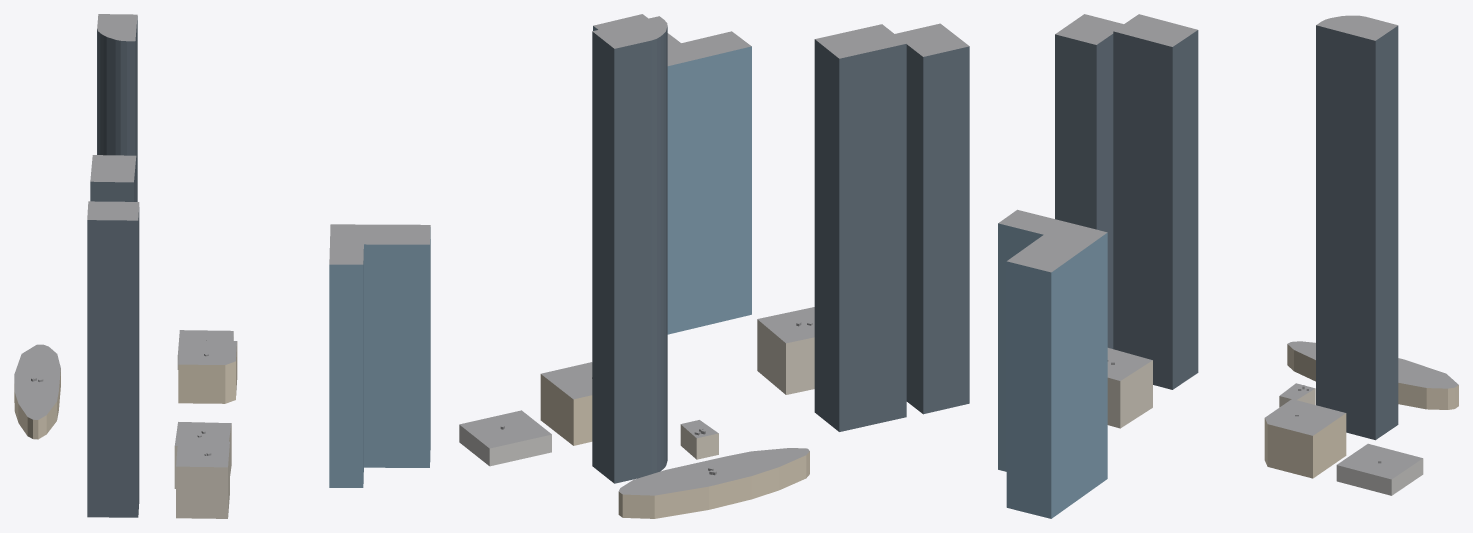
Rendered from building_-1_-5.glb.
3 views of the same model, side by side, from view 1: azimuth 30°, elevation 25°; view 2: azimuth 150°, elevation 25°; view 3: azimuth 270°, elevation 25° (orthographic). The views are drawn at different scales.
Parts seen in each view (by area): view 1: glass_blue, glass_dark, roof, sandstone, concrete_warm; view 2: glass_dark, glass_blue, roof, sandstone, concrete_warm, concrete_light; view 3: glass_dark, glass_blue, roof, sandstone, concrete_warm, concrete_light.
Boxes of the visible parts, bbox=[...] form: glass_blue: bbox=[329, 227, 430, 487]; glass_dark: bbox=[87, 16, 139, 517]; roof: bbox=[14, 14, 430, 467]; sandstone: bbox=[14, 341, 237, 439]; concrete_warm: bbox=[174, 423, 231, 518]; glass_dark: bbox=[592, 26, 969, 483]; glass_blue: bbox=[593, 26, 751, 334]; roof: bbox=[459, 14, 969, 495]; sandstone: bbox=[540, 374, 809, 518]; concrete_warm: bbox=[680, 319, 814, 459]; concrete_light: bbox=[459, 425, 551, 466]; glass_dark: bbox=[1055, 25, 1398, 440]; glass_blue: bbox=[998, 223, 1107, 518]; roof: bbox=[998, 14, 1458, 479]; sandstone: bbox=[1264, 344, 1458, 478]; concrete_warm: bbox=[1107, 360, 1315, 428]; concrete_light: bbox=[1336, 458, 1423, 495].
Size of the model in its own units: 256 by 269 by 281.
